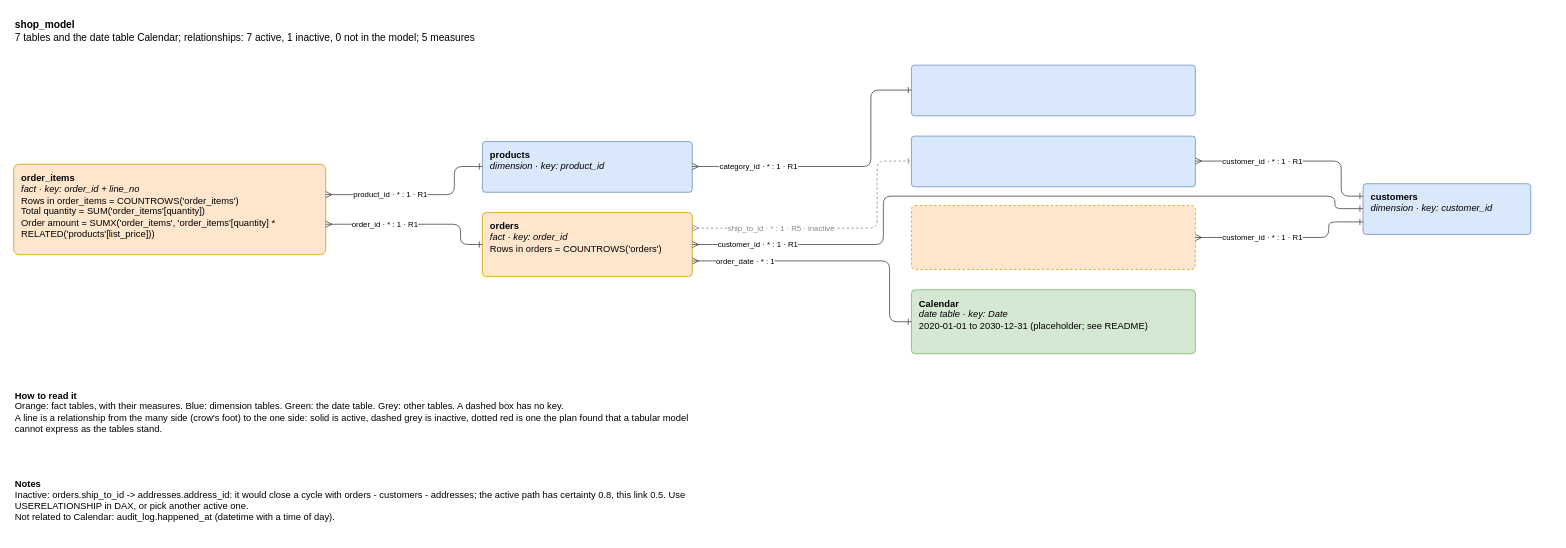
The diagram is 1566 pixels wide and 548 high, and some of its shapes have lost their labels. Here are the shapes that lost their labels. From the top down, the centre of each, then its label:
At point (1053, 90): "categories dimension · key: id".
At point (1053, 161): "addresses dimension · key: address_id".
At point (1053, 237): "audit_log fact · no key Rows in audit_log = COUNTROWS('audit_log')".
